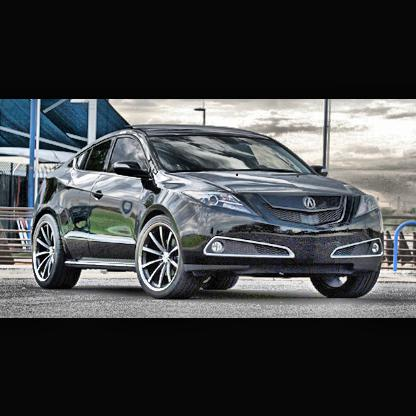Acura ZDX Hatchback 2012: (33, 123, 387, 301)
